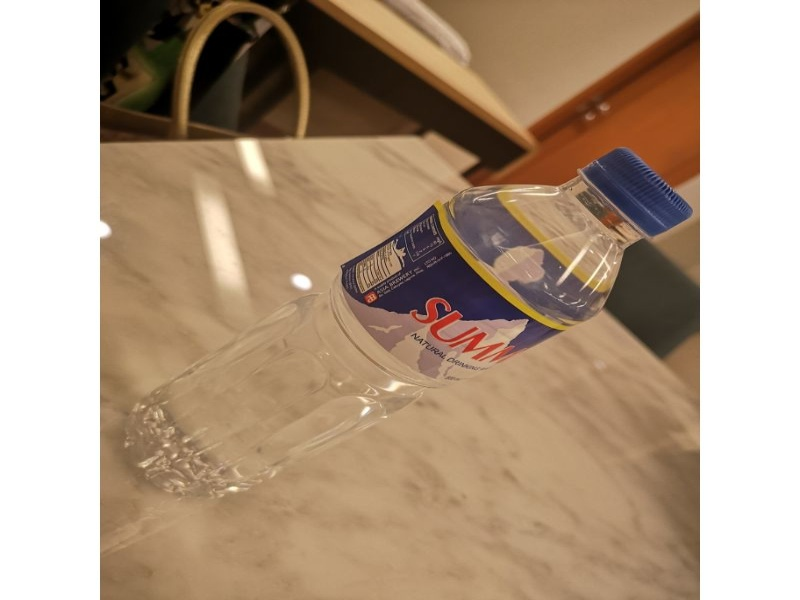PET #1: (113, 140, 696, 500)
